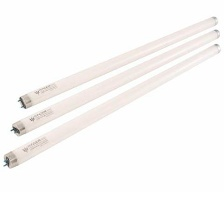light_bulb: (0, 42, 222, 172), (7, 28, 221, 139), (16, 14, 220, 111)
